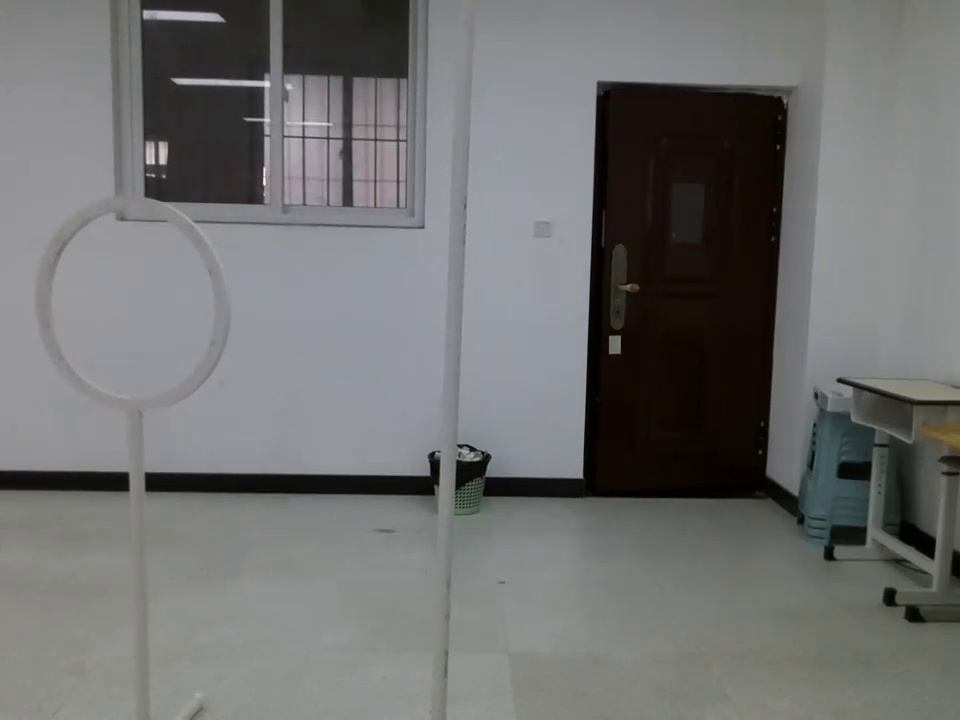gan: (423, 1, 480, 718)
quan: (17, 181, 244, 427)
